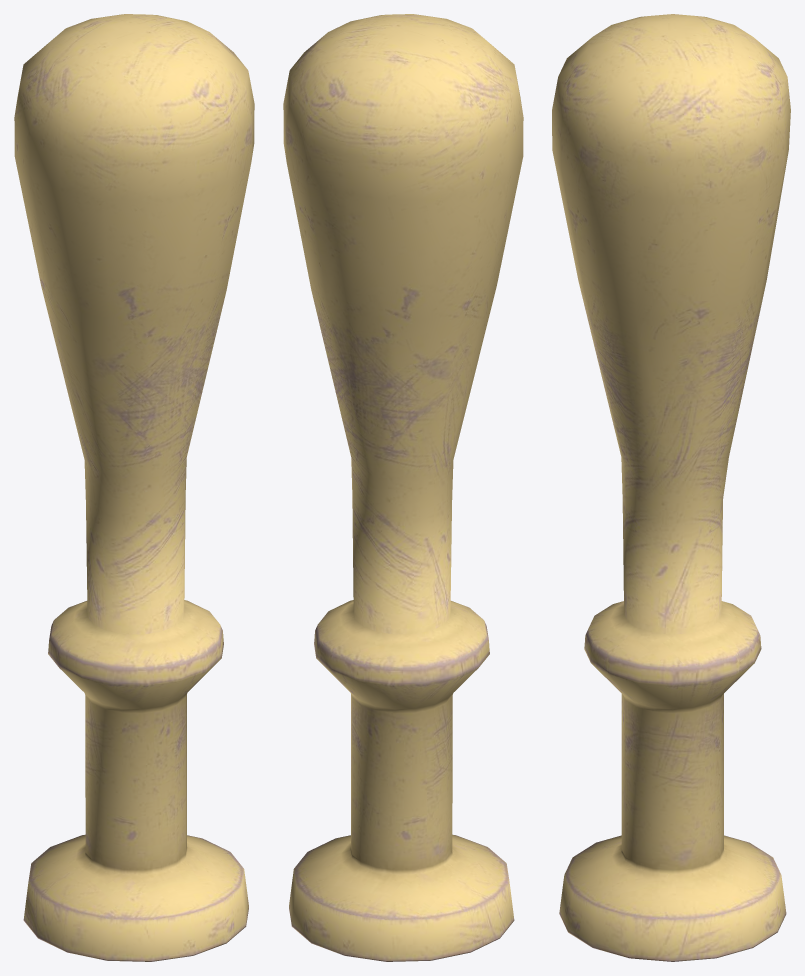
Rendered from stamp.glb.
3 renders of one model, left to right at view 1: azimuth 30°, elevation 25°; view 2: azimuth 150°, elevation 25°; view 3: azimuth 270°, elevation 25°, orthographic.
Parts seen in each view (by area): view 1: Stamp; view 2: Stamp; view 3: Stamp.
Boxes of the visible parts, bbox=[...] form: Stamp: bbox=[14, 14, 254, 961]; Stamp: bbox=[283, 14, 523, 961]; Stamp: bbox=[552, 14, 790, 961].
Bounding box in the file's own units: 1.05 × 4.22 × 1.03.
Materials: 1 (1 with a texture image).
